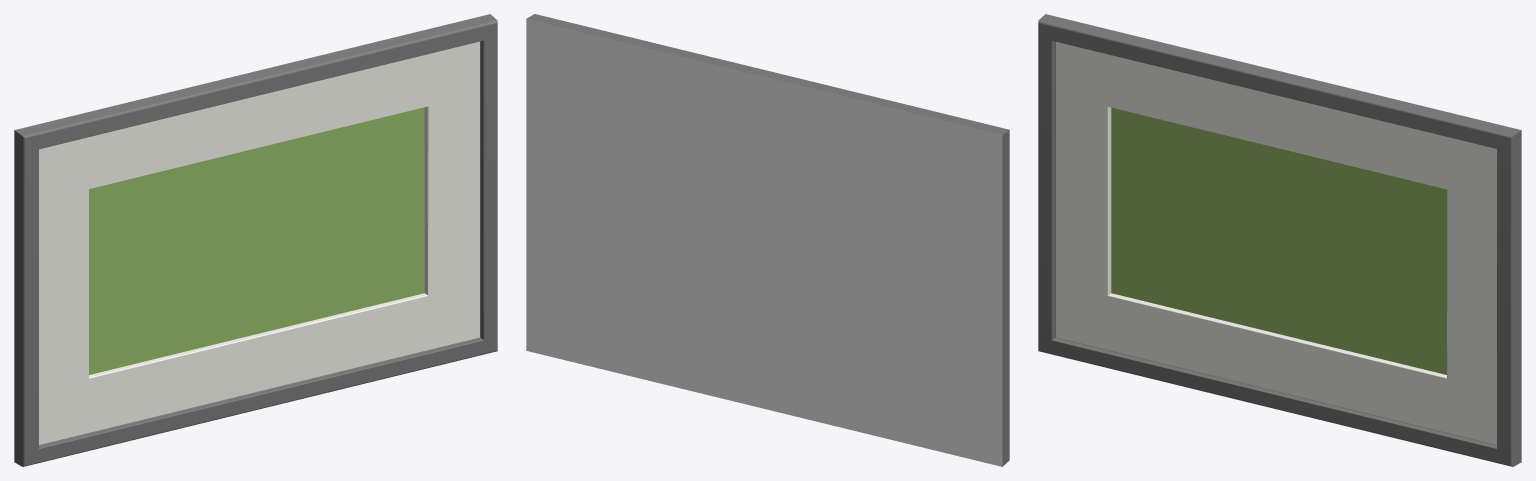
The model's file is Frame.FBX.
3 views of the same model, side by side, from view 1: azimuth 30°, elevation 25°; view 2: azimuth 150°, elevation 25°; view 3: azimuth 330°, elevation 25° (orthographic).
Visible parts, largest first — view 1: Box001; view 2: Box001; view 3: Box001.
Boxes of the visible parts, box(x1,y1,x2,y2) form: Box001: box(14, 14, 497, 466); Box001: box(526, 14, 1009, 466); Box001: box(1038, 14, 1521, 466).
Size of the model in its own units: 35.43 by 23.62 by 1.18.
